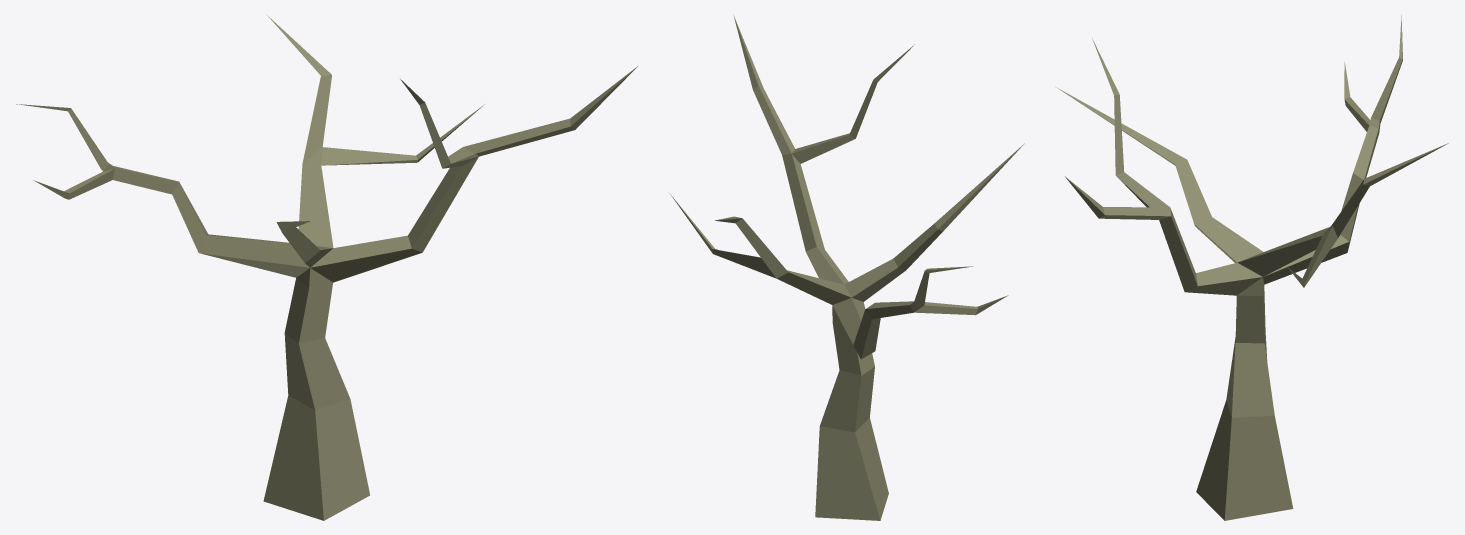
File: Dead_Tree_m_BT_01.fbx
3 views of the same model, side by side, from view 1: azimuth 30°, elevation 25°; view 2: azimuth 150°, elevation 25°; view 3: azimuth 270°, elevation 25° (orthographic). The views are drawn at different scales.
Parts seen in each view (by area): view 1: Dead_Tree_m_BT_01; view 2: Dead_Tree_m_BT_01; view 3: Dead_Tree_m_BT_01.
Boxes of the visible parts, <box> form: Dead_Tree_m_BT_01: <box>16,14,638,520</box>; Dead_Tree_m_BT_01: <box>670,15,1024,520</box>; Dead_Tree_m_BT_01: <box>1056,15,1448,520</box>.
Size of the model in its own units: 784 by 772 by 595.
